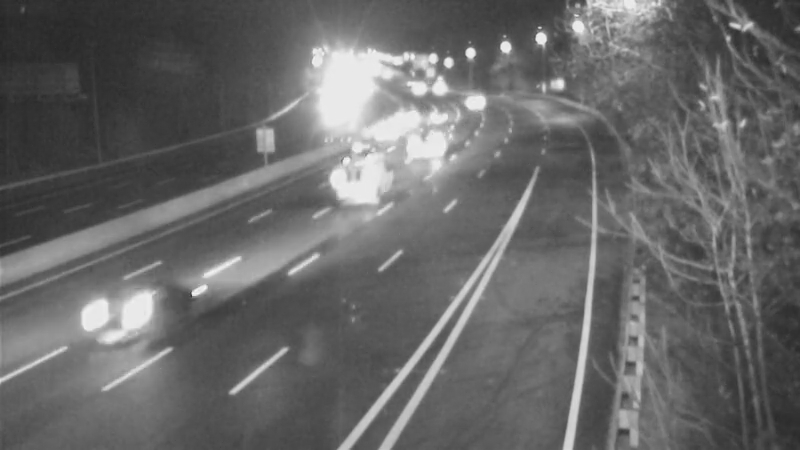vehicle: (66, 262, 176, 372), (320, 114, 400, 194), (315, 147, 395, 227), (412, 64, 462, 114), (387, 64, 437, 114), (461, 75, 511, 125), (413, 85, 463, 135), (376, 91, 426, 141), (357, 104, 407, 154), (403, 118, 453, 168), (315, 87, 365, 137)
